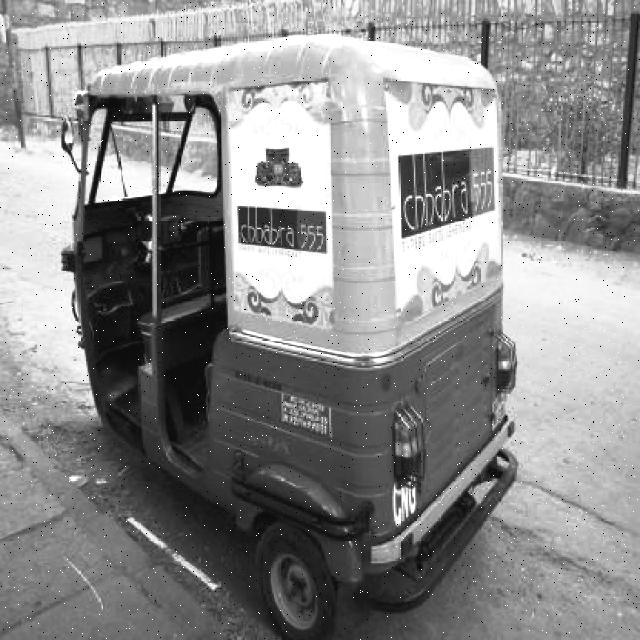Auto-Rickshaw: (56, 32, 536, 638)
